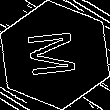M_E: (25, 29, 85, 81)
